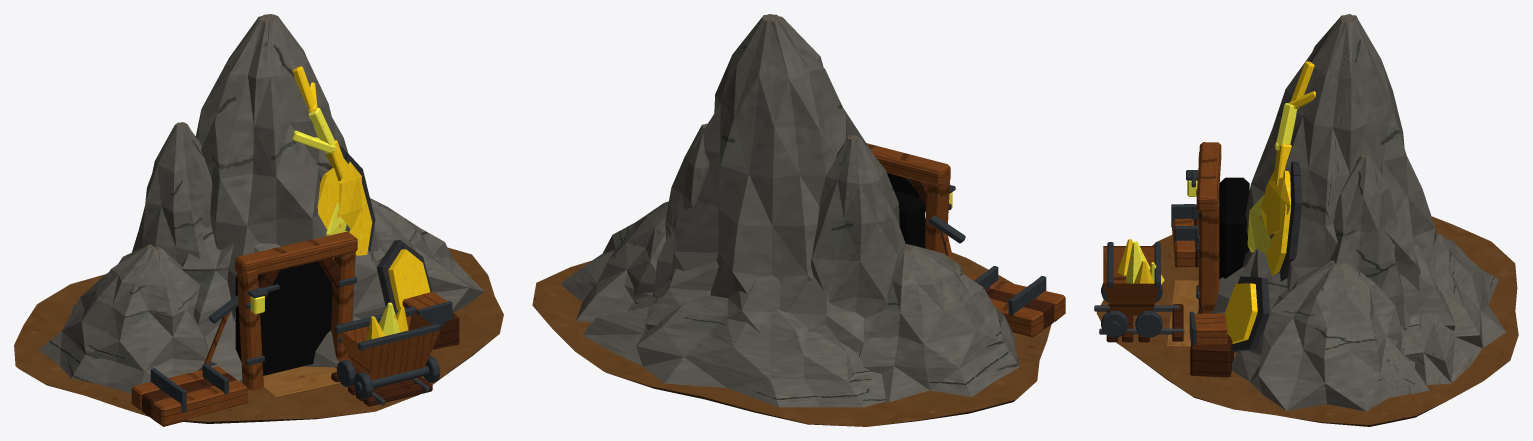
The picture shows the model from 3 angles, left to right: view 1: azimuth 30°, elevation 25°; view 2: azimuth 150°, elevation 25°; view 3: azimuth 270°, elevation 25°; orthographic projection. The views are drawn at different scales.
Visible parts, largest first — view 1: WK_GoldMine_LOD0_High.001; view 2: WK_GoldMine_LOD0_High.001; view 3: WK_GoldMine_LOD0_High.001.
Boxes of the visible parts, box(x1,y1,x2,y2) form: WK_GoldMine_LOD0_High.001: box(14, 14, 503, 426); WK_GoldMine_LOD0_High.001: box(532, 14, 1065, 426); WK_GoldMine_LOD0_High.001: box(1094, 14, 1518, 426).
Bounding box in the file's own units: 12.64 × 7.93 × 10.03.
Materials: 1 (1 with a texture image).
